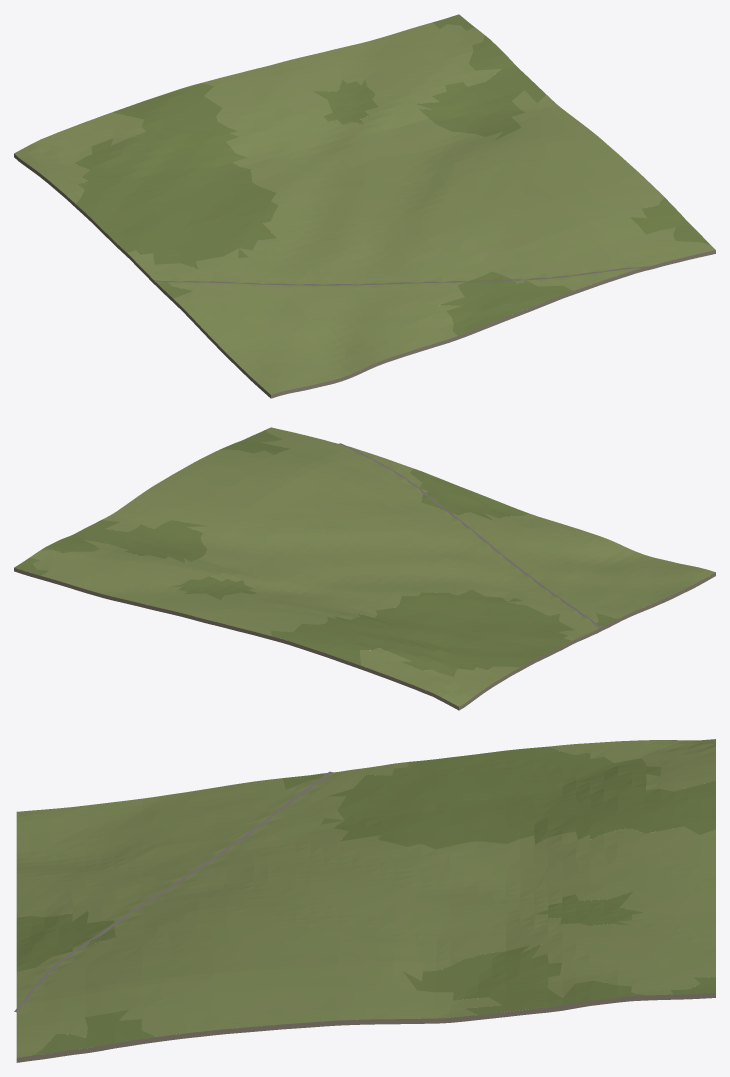
Rendered from parca_+6_-1-uzak.glb.
3 renders of one model, top to bottom at view 1: azimuth 30°, elevation 25°; view 2: azimuth 150°, elevation 25°; view 3: azimuth 270°, elevation 25°, orthographic. The views are drawn at different scales.
Parts seen in each view (by area): view 1: parca_+6_-1_arazi_uzak, parca_+6_-1_yollar_uzak; view 2: parca_+6_-1_arazi_uzak, parca_+6_-1_yollar_uzak; view 3: parca_+6_-1_arazi_uzak, parca_+6_-1_yollar_uzak.
Boxes of the visible parts, left/top/right/bottom form: parca_+6_-1_arazi_uzak: left=14, top=14, right=715, bottom=398; parca_+6_-1_yollar_uzak: left=154, top=266, right=647, bottom=285; parca_+6_-1_arazi_uzak: left=14, top=427, right=715, bottom=710; parca_+6_-1_yollar_uzak: left=339, top=443, right=601, bottom=628; parca_+6_-1_arazi_uzak: left=16, top=739, right=715, bottom=1062; parca_+6_-1_yollar_uzak: left=14, top=771, right=333, bottom=1012.
Bounding box in the file's own units: 1003 × 190 × 1004.
